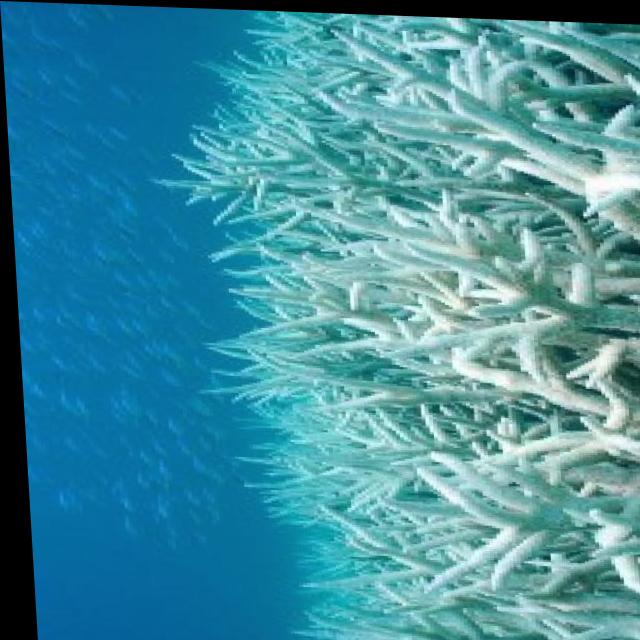Bleached Coral: (192, 6, 640, 640)
